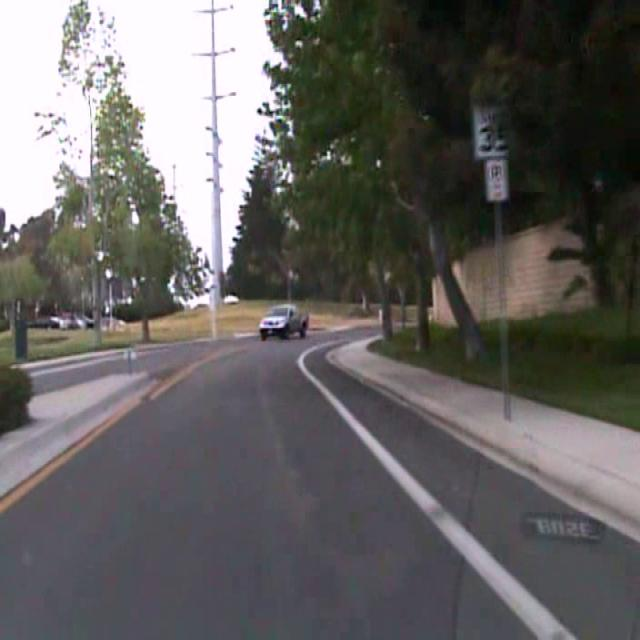speedLimit35: (472, 85, 514, 160)
